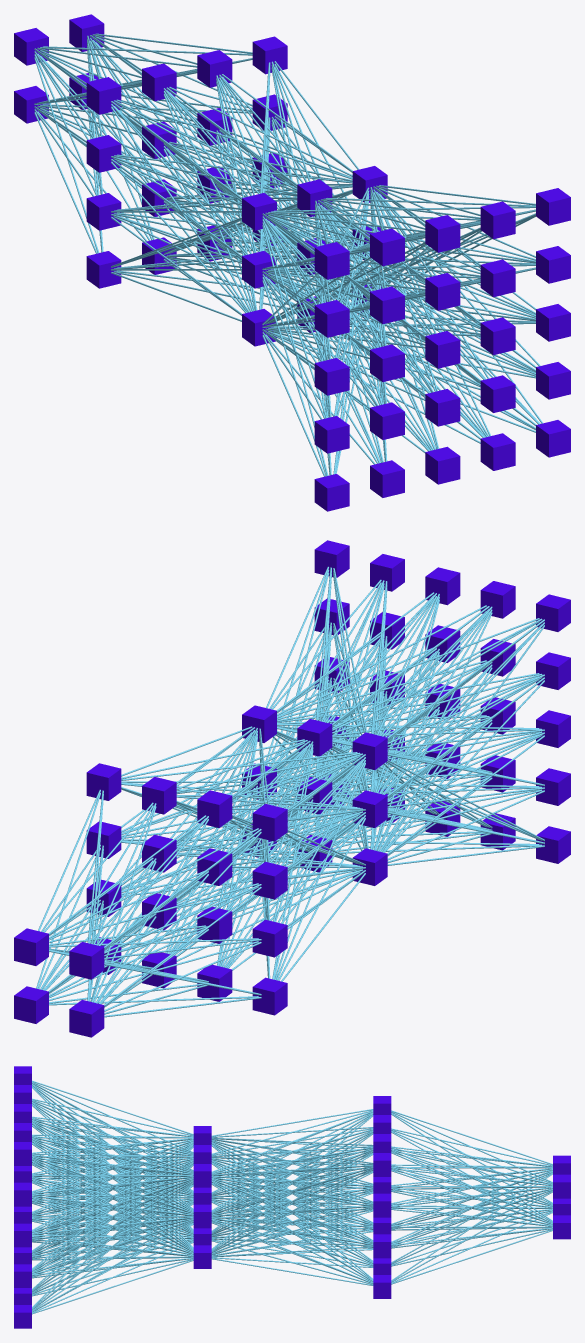
File: artificial_neural_network_ann.glb
3 views of the same model, one above another, from view 1: azimuth 30°, elevation 25°; view 2: azimuth 150°, elevation 25°; view 3: azimuth 270°, elevation 25° (orthographic). The views are drawn at different scales.
Parts seen in each view (by area): view 1: Sweep, Cube_1_0, Cube_1_12, Cube_1_3, Cube_1_5, Cube_1_7, Cube_1_8, Cube_1_20, Cube_1_23, Cube_1_2, Cube_1_10, Cube_1_13 (+34 smaller); view 2: Sweep, Cube_4_0, Cube_4_2, Cube_4_3, Cube_4_1, Cube_3_0, Cube_3_12, Cube_3_15, Cube_3_4, Cube_3_13, Cube_3_8, Cube_1_24 (+29 smaller); view 3: Sweep, Cube_3_7, Cube_3_11, Cube_2_5, Cube_2_2, Cube_2_8, Cube_3_3, Cube_3_15, Cube_1_14, Cube_1_19, Cube_4_1, Cube_4_3 (+15 smaller).
Boxes of the visible parts, box(x1,y1,x2,y2) form: Sweep: box(34, 33, 542, 476); Cube_1_0: box(314, 474, 349, 511); Cube_1_12: box(425, 331, 460, 368); Cube_1_3: box(480, 433, 515, 470); Cube_1_5: box(314, 416, 349, 453); Cube_1_7: box(425, 389, 460, 426); Cube_1_8: box(480, 375, 515, 412); Cube_1_20: box(314, 242, 349, 279); Cube_1_23: box(480, 201, 515, 239); Cube_1_2: box(425, 446, 460, 484); Cube_1_10: box(314, 358, 349, 395); Cube_1_13: box(480, 317, 515, 355); Sweep: box(36, 566, 544, 1017); Cube_4_0: box(69, 1000, 104, 1037); Cube_4_2: box(69, 942, 104, 979); Cube_4_3: box(14, 928, 48, 965); Cube_4_1: box(14, 986, 48, 1023); Cube_3_0: box(252, 977, 287, 1015); Cube_3_12: box(252, 804, 287, 841); Cube_3_15: box(86, 763, 121, 800); Cube_3_4: box(252, 919, 287, 957); Cube_3_13: box(197, 790, 232, 827); Cube_3_8: box(252, 861, 287, 899); Cube_1_24: box(314, 540, 349, 577); Sweep: box(32, 1080, 552, 1314); Cube_3_7: box(373, 1234, 391, 1258); Cube_3_11: box(373, 1193, 391, 1217); Cube_2_5: box(193, 1204, 211, 1228); Cube_2_2: box(193, 1245, 211, 1268); Cube_2_8: box(193, 1164, 211, 1187); Cube_3_3: box(373, 1275, 391, 1298); Cube_3_15: box(373, 1153, 391, 1176); Cube_1_14: box(14, 1223, 31, 1247); Cube_1_19: box(14, 1182, 31, 1206); Cube_4_1: box(553, 1215, 570, 1239); Cube_4_3: box(553, 1174, 570, 1198).
Size of the model in its own units: 22 by 22 by 62.
